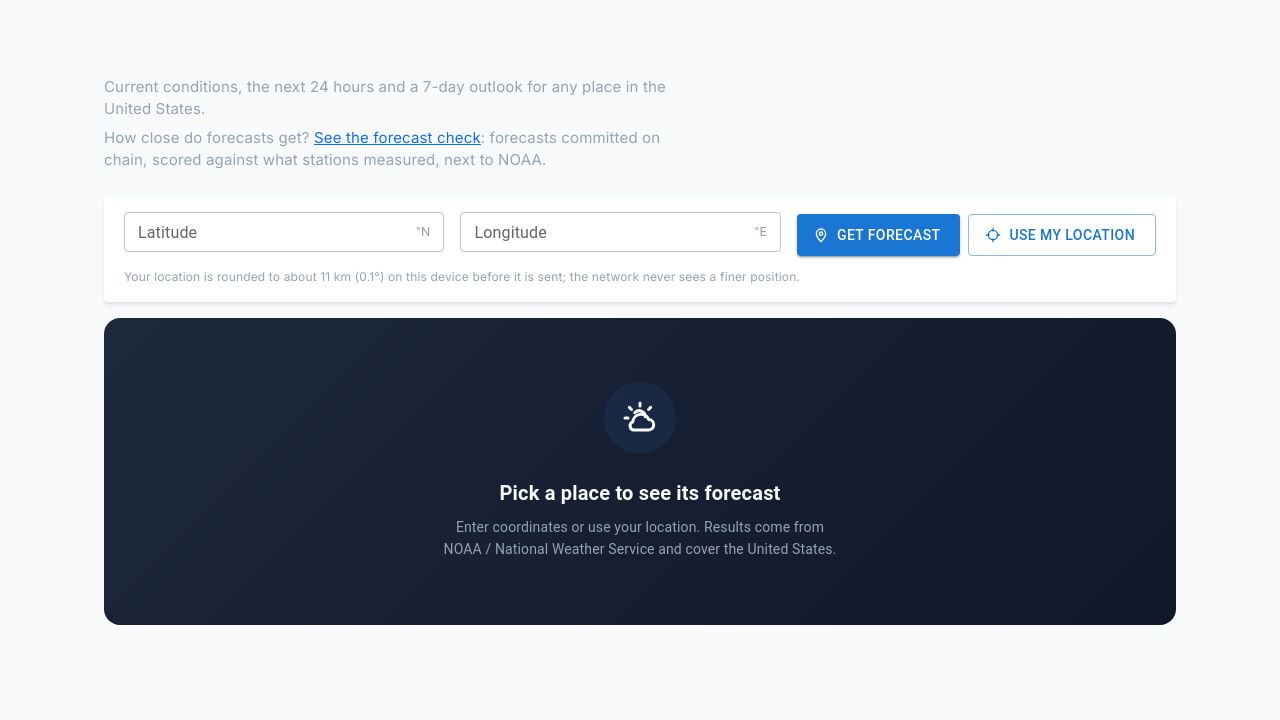
S5 forecast › makes no request for an invalid coordinate or before submit
Type "123" into the field labelled "Latitude".
click(266, 232); type("123")  # box [124, 212, 408, 252]
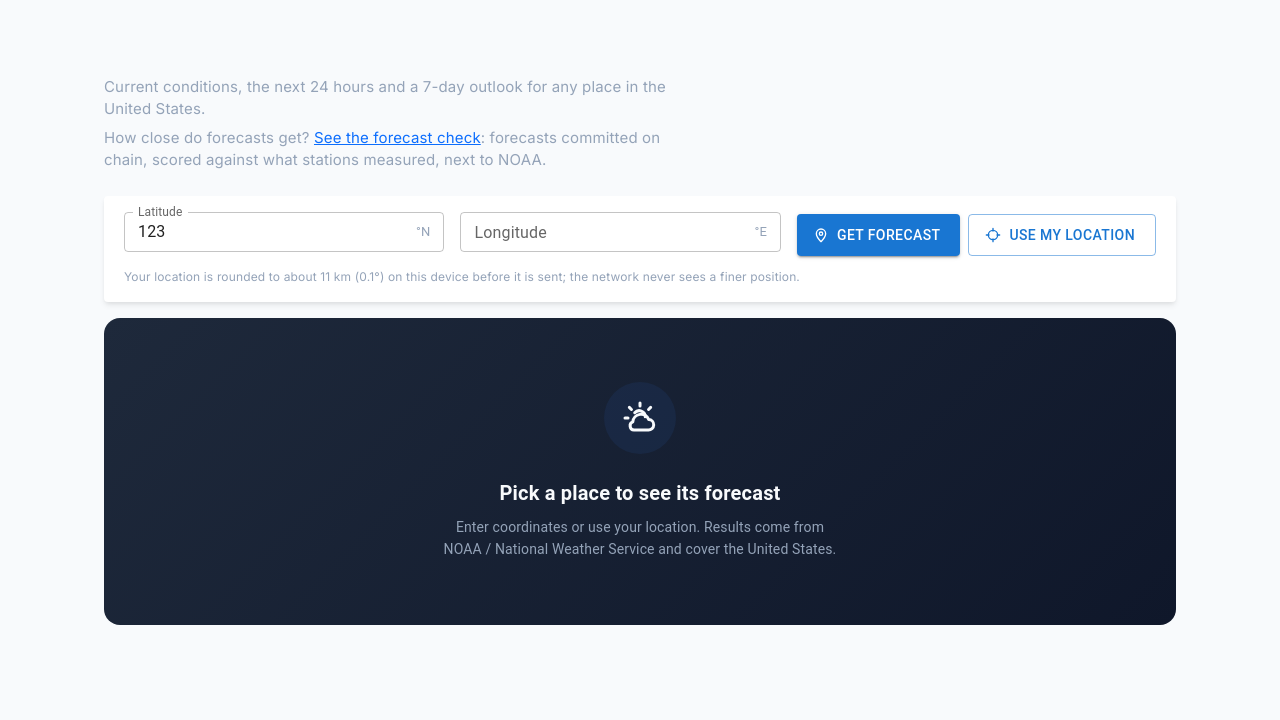
Type "10" into the field labelled "Longitude".
click(604, 232); type("10")  # box [460, 212, 746, 252]
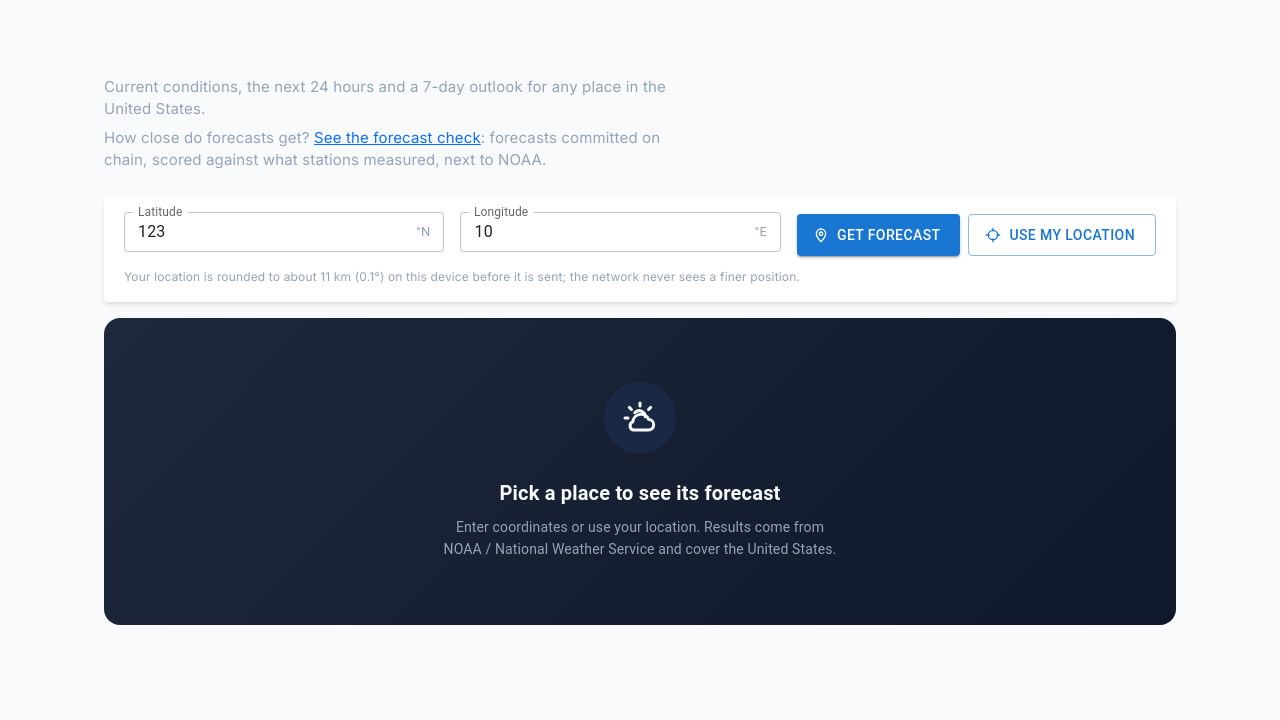
Click the button "Get forecast".
click(879, 235)  # box [797, 214, 960, 256]
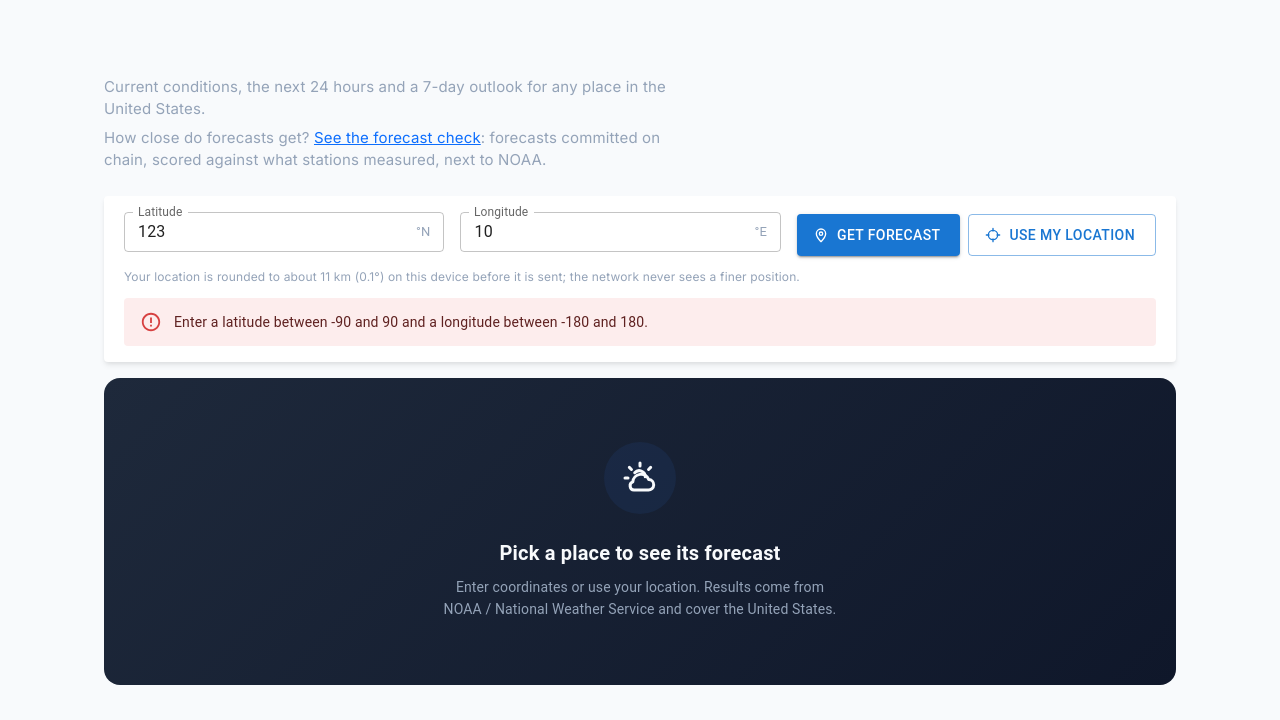
Now the text "latitude between -90 and 90" is shown, box [174, 314, 648, 330]
